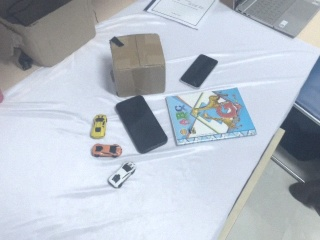book: (163, 86, 258, 150)
box: (1, 1, 97, 68), (108, 33, 166, 97)
phone: (115, 95, 168, 154), (179, 53, 219, 89)
toy_car: (107, 159, 136, 188), (91, 142, 123, 158), (90, 113, 108, 139)
